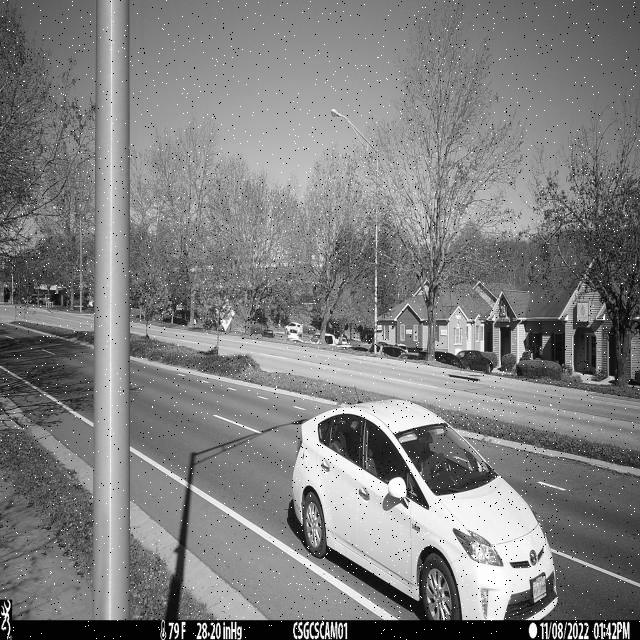Hatchback: (291, 399, 558, 621)
